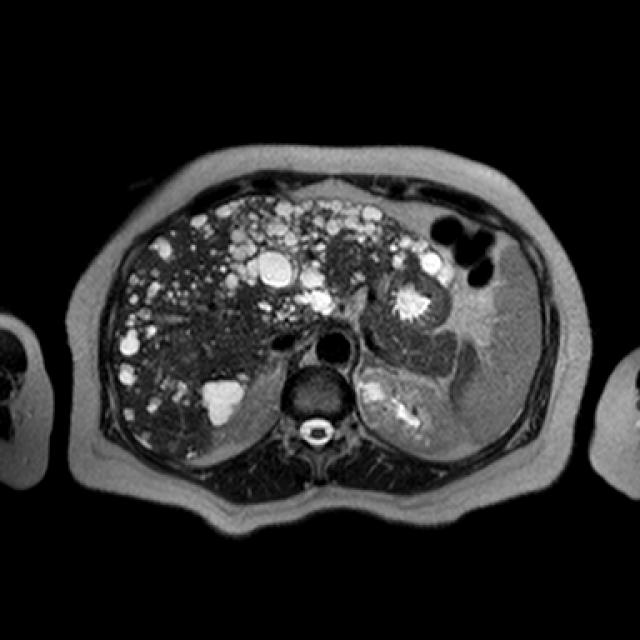sag: (227, 364, 285, 445)
sol: (358, 371, 476, 453)
